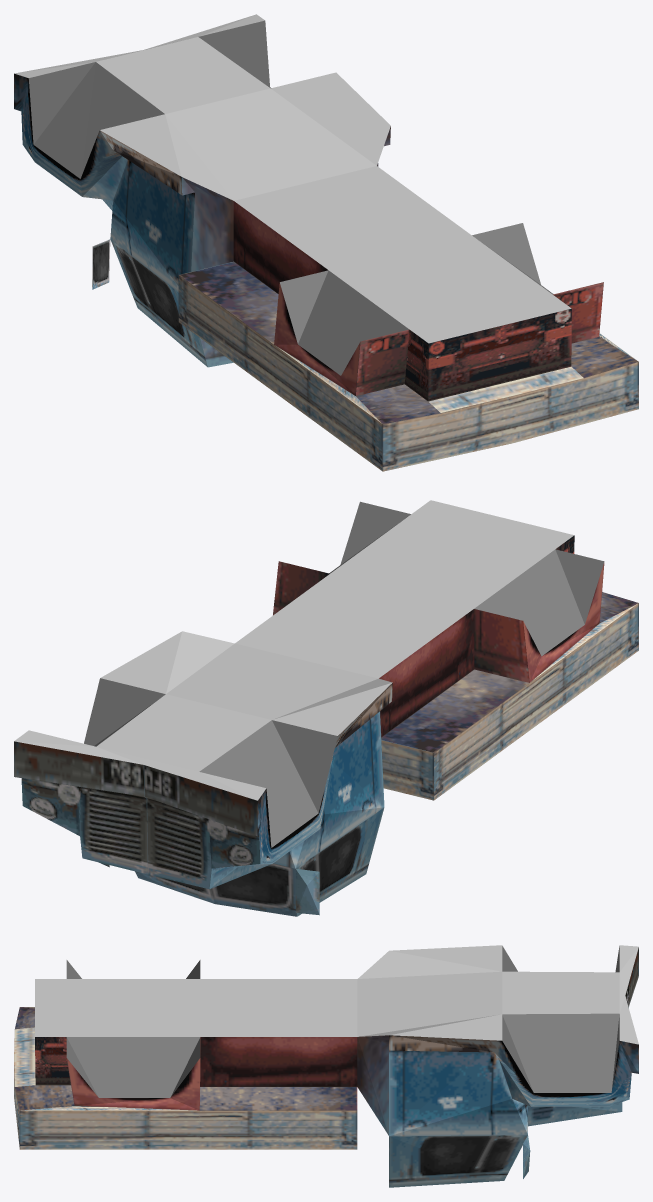
File: HAVANA_model8_damaged.obj
3 renders of one model, top to bottom at view 1: azimuth 30°, elevation 25°; view 2: azimuth 150°, elevation 25°; view 3: azimuth 270°, elevation 25°, orthographic. The views are drawn at different scales.
Parts seen in each view (by area): view 1: HAVANA_model8_damaged; view 2: HAVANA_model8_damaged; view 3: HAVANA_model8_damaged.
Boxes of the visible parts, x1=… form: HAVANA_model8_damaged: x1=14, y1=14, x2=638, y2=471; HAVANA_model8_damaged: x1=14, y1=500, x2=638, y2=916; HAVANA_model8_damaged: x1=14, y1=945, x2=638, y2=1187.
Bounding box in the file's own units: 340 × 256 × 868.
